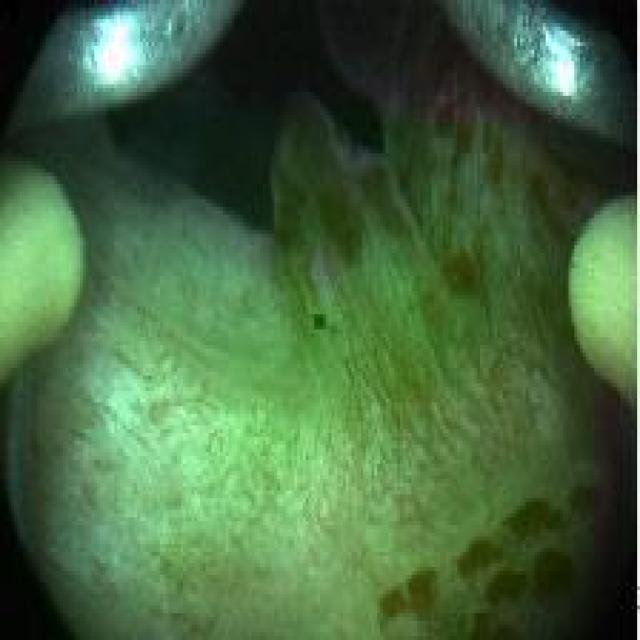color misalignment: (309, 308, 329, 333)
contrast: (133, 5, 451, 198), (510, 544, 636, 640), (560, 411, 636, 544)
instrument: (7, 2, 236, 141), (435, 1, 636, 146), (2, 152, 85, 390), (567, 196, 637, 410)
specularity: (538, 19, 588, 106), (85, 14, 144, 86)
